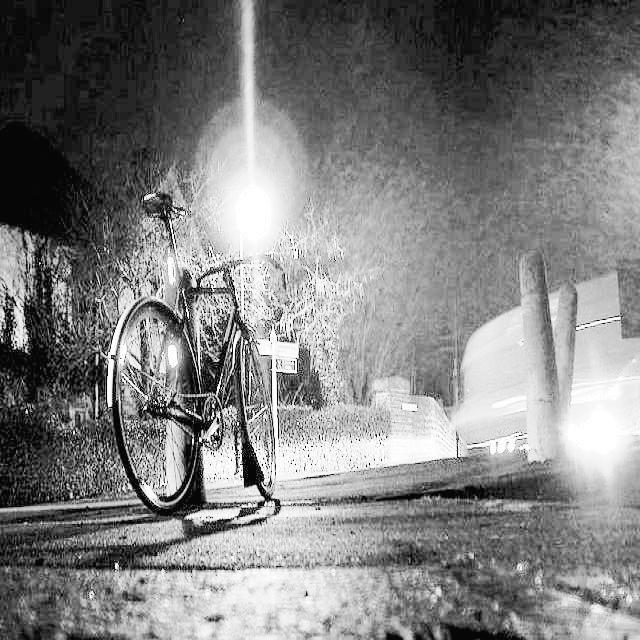Bicycle: (108, 141, 313, 554)
